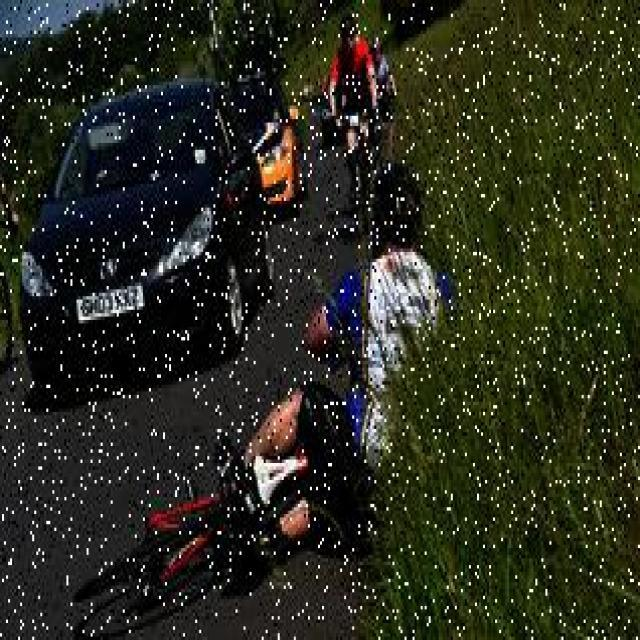fall: (224, 177, 448, 552)
